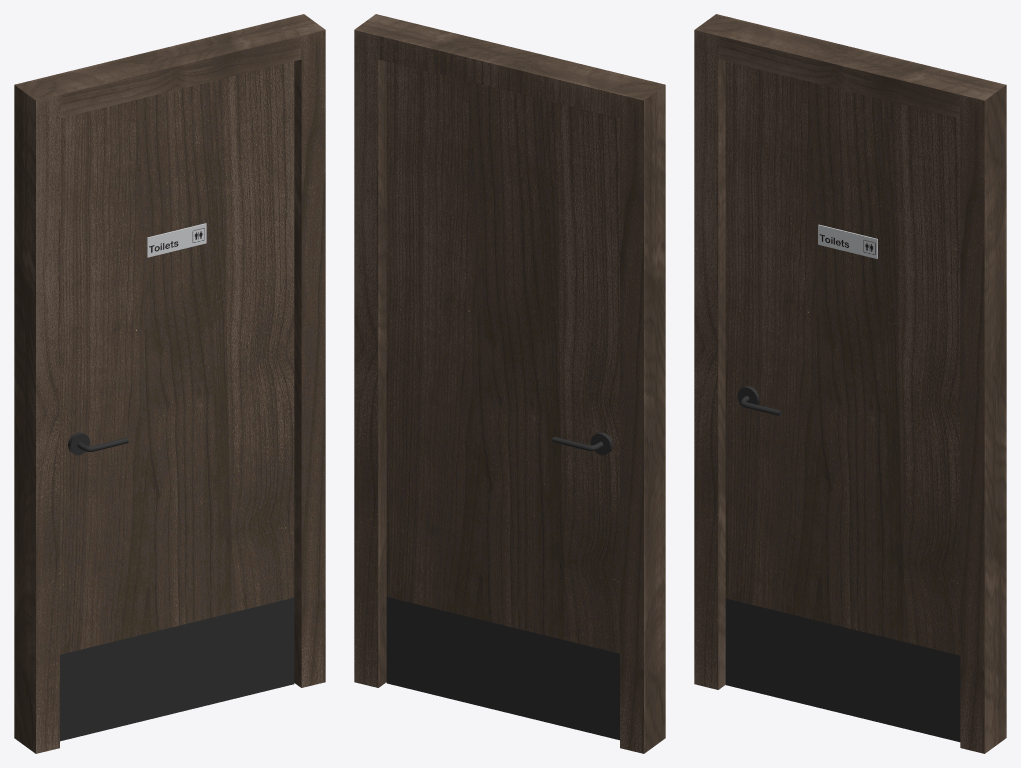
File: Door 1.FBX
3 renders of one model, left to right at view 1: azimuth 30°, elevation 25°; view 2: azimuth 150°, elevation 25°; view 3: azimuth 330°, elevation 25°, orthographic.
Visible parts, largest first — view 1: Door, door frame, poster; view 2: Door, door frame; view 3: Door, door frame, poster.
Boxes of the visible parts, x1,y1,x2,y2 form: Door: (60, 61, 294, 741); door frame: (14, 14, 325, 753); poster: (147, 223, 206, 257); Door: (386, 61, 619, 740); door frame: (354, 14, 665, 753); Door: (725, 61, 960, 742); door frame: (694, 14, 1006, 753); poster: (818, 224, 877, 258).
Size of the model in its own units: 101 by 217 by 17.52.
Materials: 3 (2 with a texture image).
